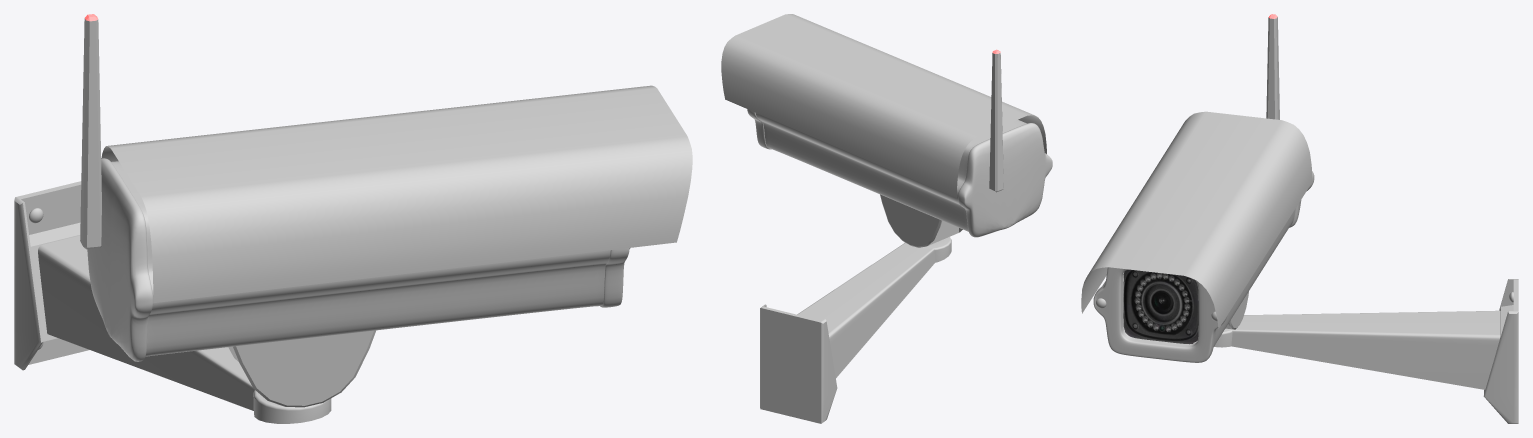
File: camera.glb
3 views of the same model, side by side, from view 1: azimuth 30°, elevation 25°; view 2: azimuth 150°, elevation 25°; view 3: azimuth 270°, elevation 25° (orthographic). The views are drawn at different scales.
Visible parts, largest first — view 1: SecurityCamera, SecurityCameraBase; view 2: SecurityCamera, SecurityCameraBase; view 3: SecurityCamera, SecurityCameraBase.
Boxes of the visible parts, x1,y1,x2,y2 form: SecurityCamera: [80, 14, 692, 407]; SecurityCameraBase: [14, 181, 331, 423]; SecurityCamera: [721, 14, 1052, 247]; SecurityCameraBase: [760, 237, 951, 423]; SecurityCamera: [1081, 14, 1314, 362]; SecurityCameraBase: [1214, 279, 1518, 423].
Bounding box in the file's own units: 10.17 × 9.37 × 10.89.
Materials: 5 (1 with a texture image).
